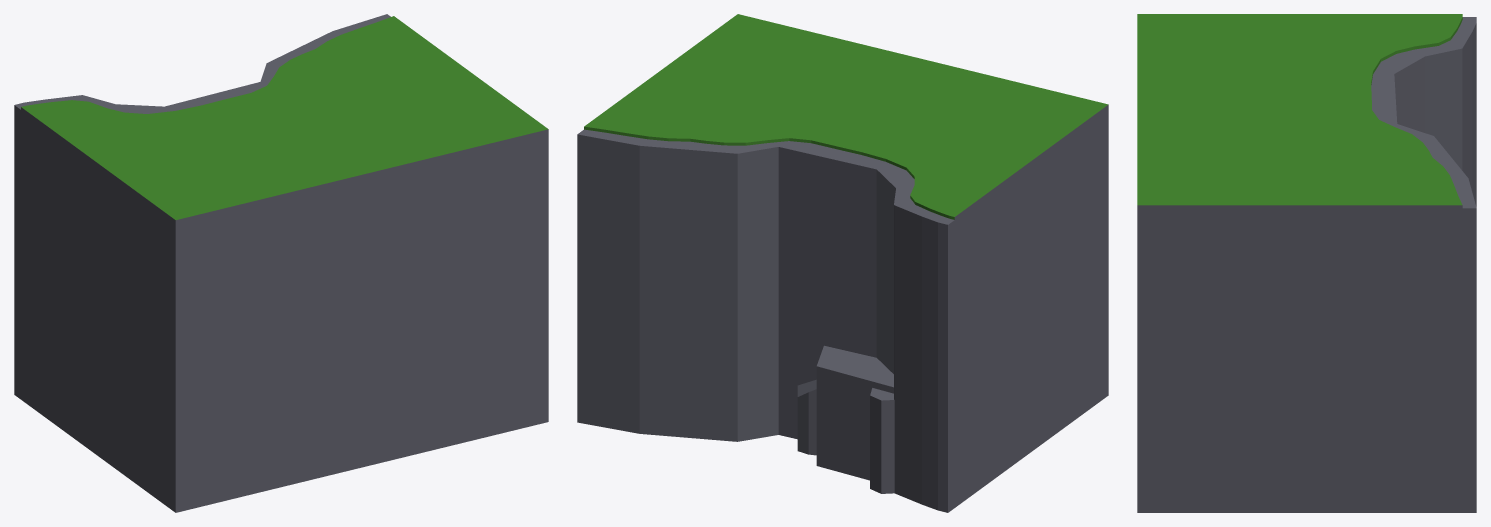
Rendered from Side2v2.fbx.
3 views of the same model, side by side, from view 1: azimuth 30°, elevation 25°; view 2: azimuth 150°, elevation 25°; view 3: azimuth 270°, elevation 25° (orthographic). The views are drawn at different scales.
Parts seen in each view (by area): view 1: Plane.004; view 2: Plane.004; view 3: Plane.004.
Part boxes in pixels (x1=…): Plane.004: x1=14, y1=14, x2=548, y2=512; Plane.004: x1=577, y1=14, x2=1108, y2=512; Plane.004: x1=1137, y1=14, x2=1476, y2=512.
Bounding box in the file's own units: 100 × 75 × 75.
